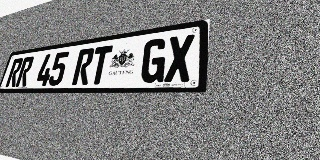4: (35, 53, 56, 86)
5: (48, 51, 69, 86)
G: (139, 37, 168, 83)
R: (72, 48, 95, 85), (15, 56, 35, 87), (5, 58, 24, 87)
T: (88, 45, 113, 85)
X: (164, 34, 195, 82)
